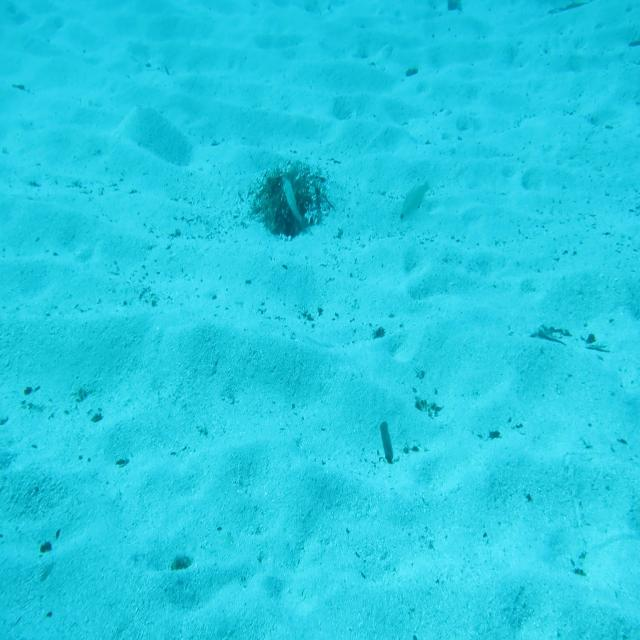FAN: (281, 174, 311, 228)
female: (398, 176, 431, 228)
nest: (254, 155, 338, 239)
vegetation: (516, 326, 552, 352), (377, 420, 393, 464), (169, 552, 197, 575), (447, 0, 463, 16)
